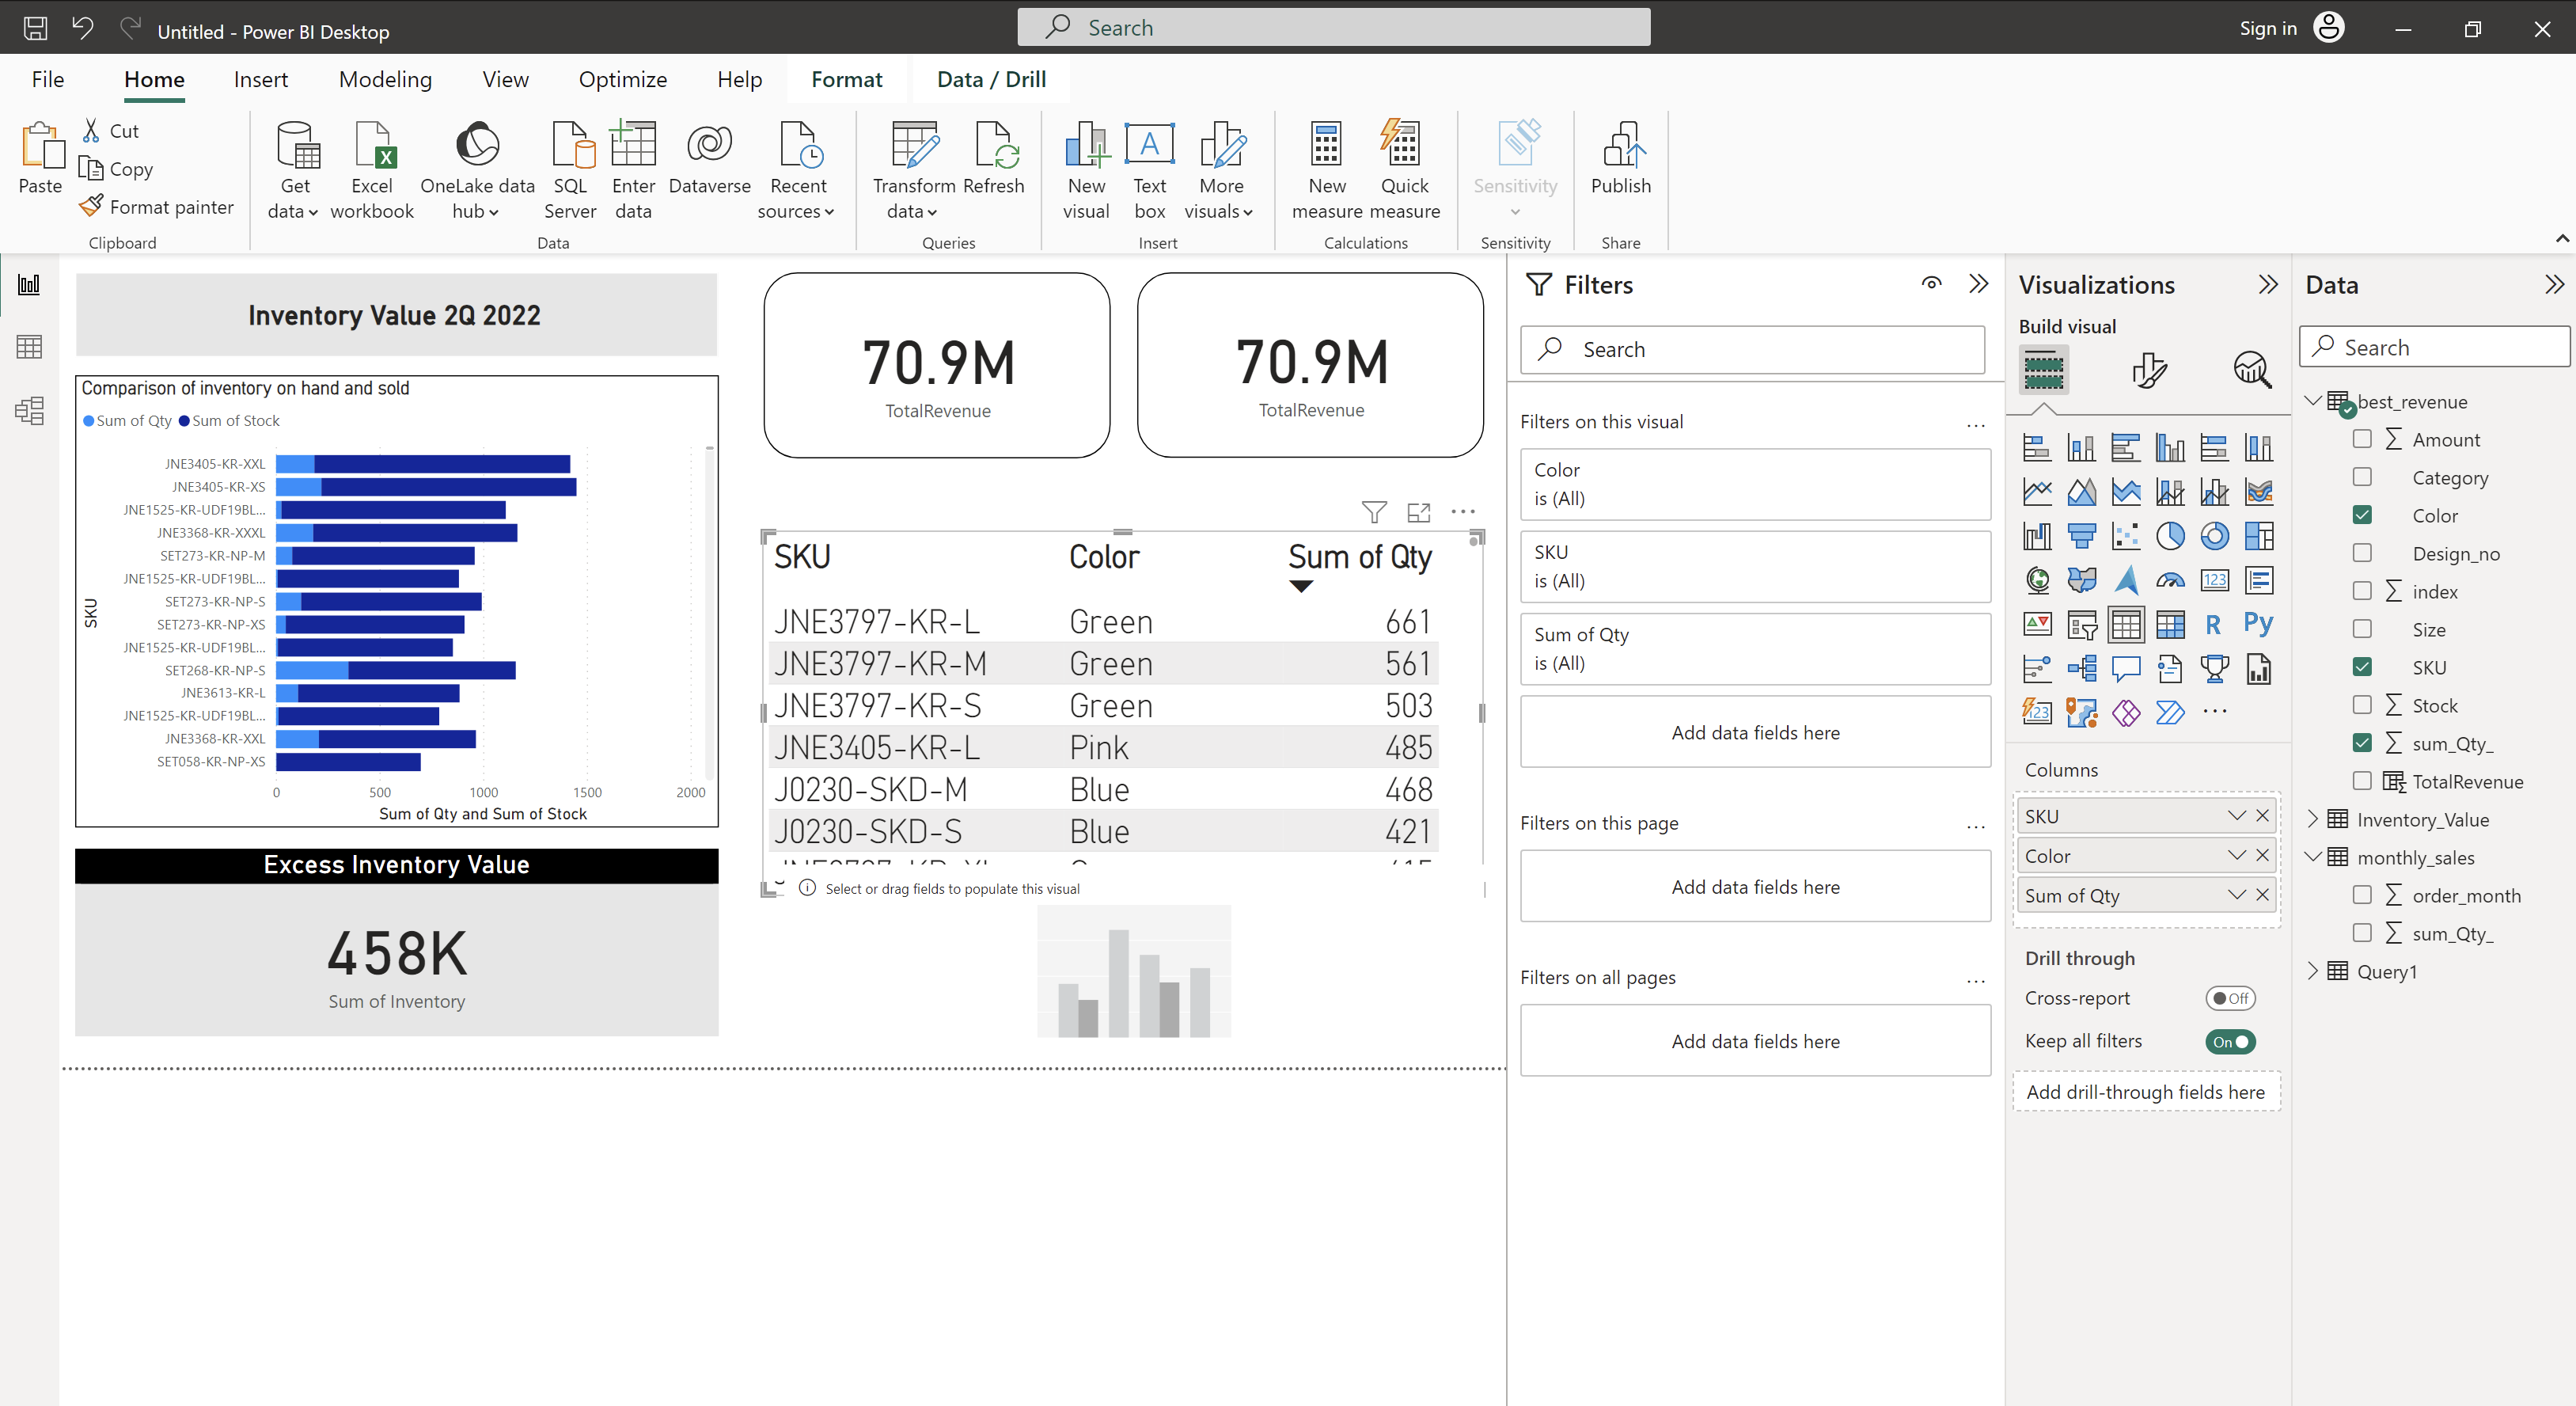

The page's visual inventory and layout, read from the dashboard file:
{"tool":"powerbi","page":{"name":"Page 1","canvas":[1280,720],"ordinal":0},"visuals":[{"type":"textbox","box":[34.1,15.9,590.9,75],"z":0},{"type":"barChart","title":" Comparison of inventory on hand and sold","fields":{"Category":["best_revenue.SKU"],"Y":["Sum(best_revenue.sum_Qty_)","Sum(best_revenue.Stock)"]},"box":[34.1,109.1,588.6,400],"z":1000},{"type":"card","title":"Excess Inventory Value","fields":{"Values":["Sum(Inventory_value (2).Inventory_value)"]},"box":[34.1,527.3,588.6,165.9],"z":2000},{"type":"card","title":"To","fields":{"Values":["Sum(best_revenue.TotalRevenue)"]},"box":[638.6,15.9,306.8,165.9],"z":3000},{"type":"card","title":"To","fields":{"Values":["Sum(best_revenue.sum_Qty_)"]},"box":[970.3,15.5,268.4,163.9],"z":4000},{"type":"tableEx","fields":{"Values":["best_revenue.SKU","best_revenue.Color","Sum(best_revenue.sum_Qty_)"]},"box":[638.7,192.3,638.7,286.5],"z":5000},{"type":"clusteredColumnChart","title":"Peak sales time of this quarter","fields":{"Category":["monthly_sales.order_month"],"Y":["Sum(monthly_sales.sum_Qty_)"]},"box":[638.6,504.5,600,200],"z":6000}]}

Visuals, with their boxes on the page's 1280x720 design canvas (x1, y1, x2, y2). These are canvas units, not pixel positions in the 2576x1406 screenshot, which may show the page scaled, cropped or inside an application window:
textbox: detection(34, 16, 625, 91)
" Comparison of inventory on hand and sold" barChart: detection(34, 109, 623, 509)
"Excess Inventory Value" card: detection(34, 527, 623, 693)
"To" card: detection(639, 16, 945, 182)
"To" card: detection(970, 16, 1239, 179)
tableEx - best_revenue.SKU x best_revenue.Color: detection(639, 192, 1277, 479)
"Peak sales time of this quarter" clusteredColumnChart: detection(639, 504, 1239, 704)
